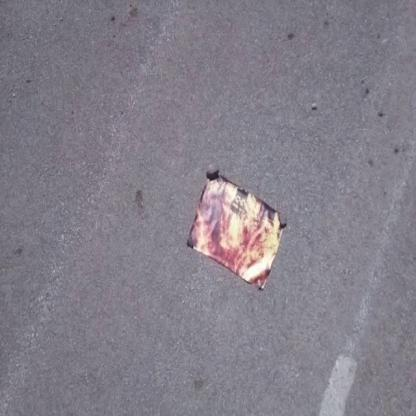fire-poster: (185, 164, 287, 292)
